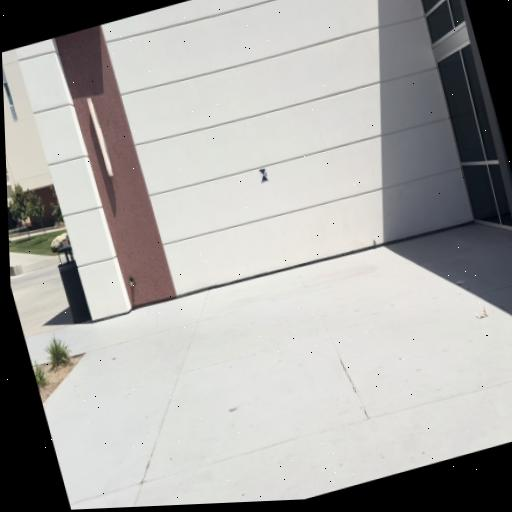target0: (258, 167, 270, 183)
